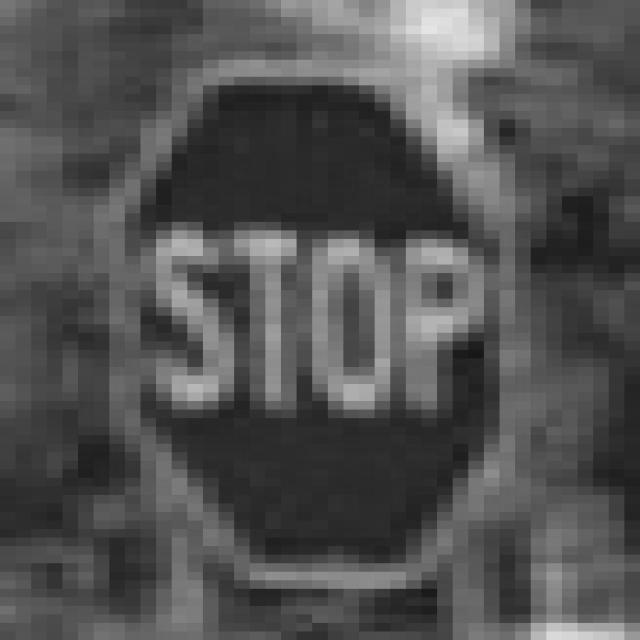stop: (96, 59, 531, 598)
